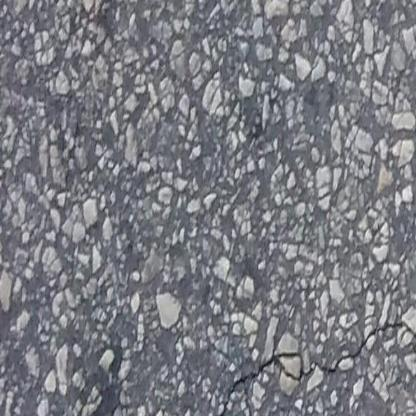Cracks: (207, 360, 302, 416), (322, 325, 416, 380)
